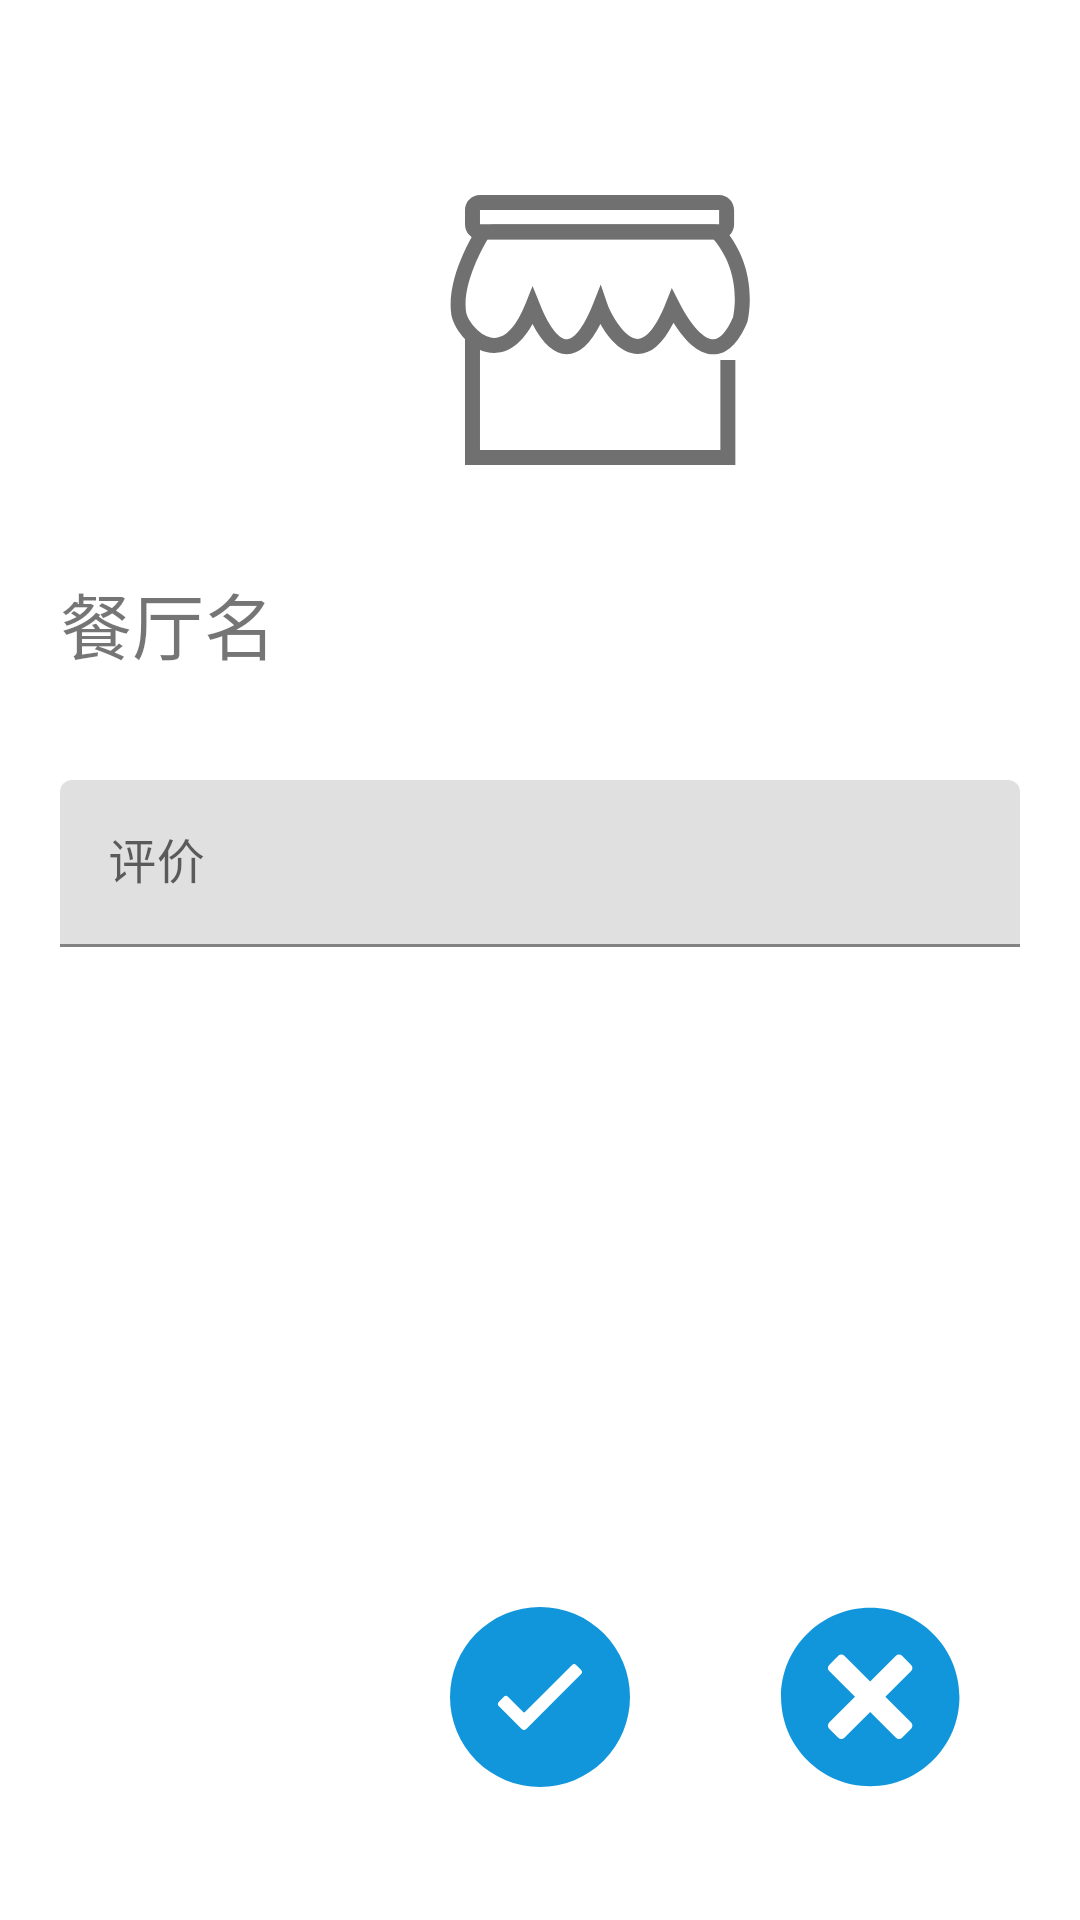

Icon click points for this 1080 x 1920 phone screenshot, format (x=x, y=y):
cancel: (x=870, y=1697)
confirm: (x=540, y=1697)
